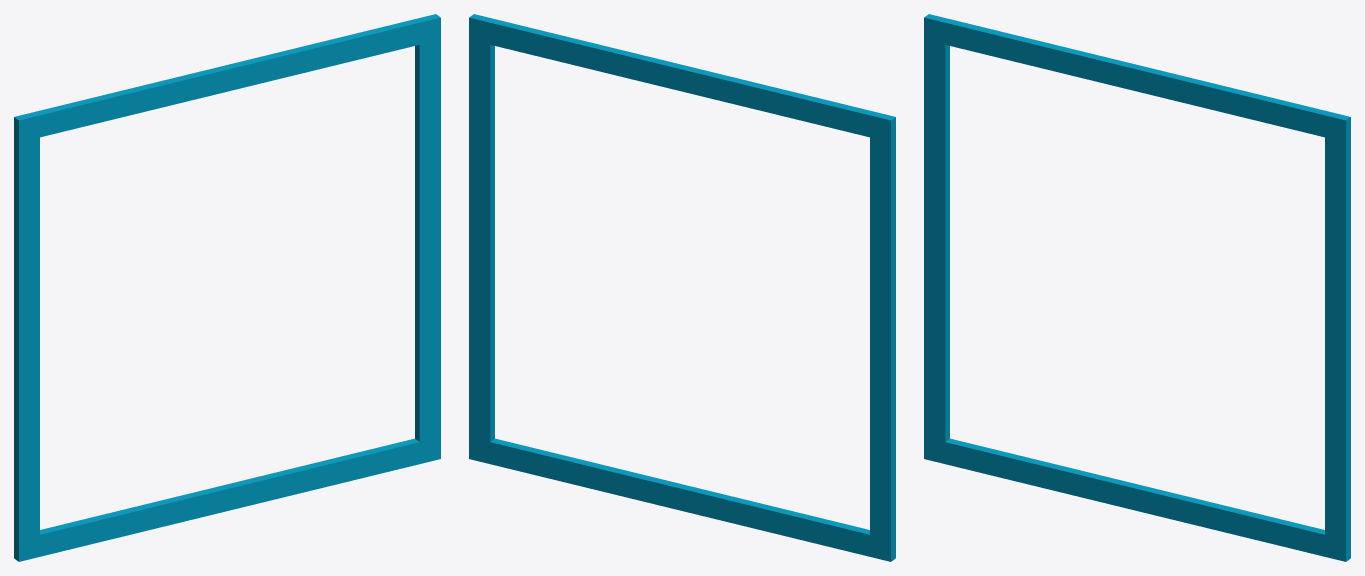
File: square_frame_blue.obj
3 renders of one model, left to right at view 1: azimuth 30°, elevation 25°; view 2: azimuth 150°, elevation 25°; view 3: azimuth 330°, elevation 25°, orthographic.
Visible parts, largest first — view 1: square_frame_blue; view 2: square_frame_blue; view 3: square_frame_blue.
Boxes of the visible parts, left/top/right/bottom form: square_frame_blue: left=14, top=14, right=440, bottom=561; square_frame_blue: left=469, top=14, right=895, bottom=561; square_frame_blue: left=924, top=14, right=1350, bottom=561.
Bounding box in the file's own units: 0.1 × 0.1 × 0.002.
